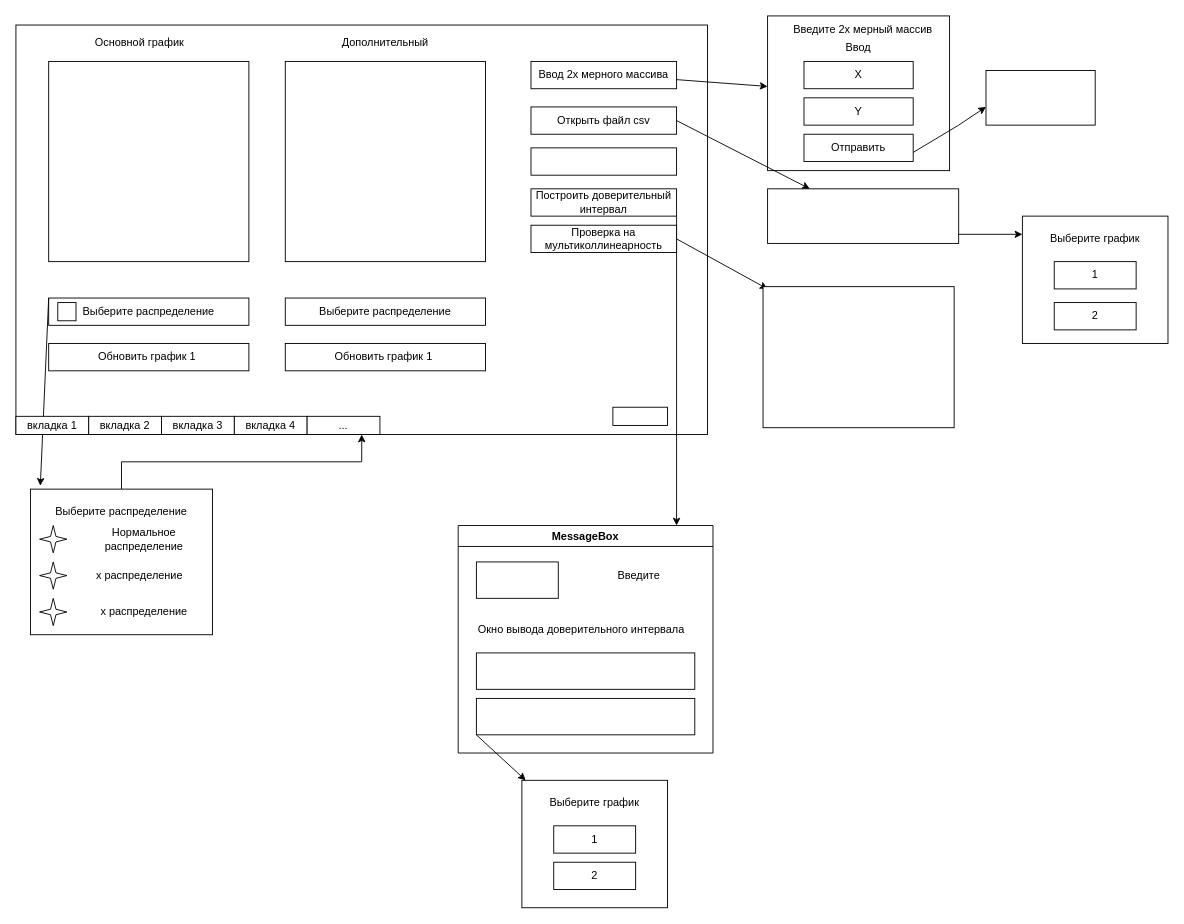
Image size: 1184x924. Some labels were removed from this diagram. The centre of each missing label's shape, as x and y in pixels:
Выход: the point at 639,415
Обновить график с учетом довер интервала: the point at 585,716
Обозначает сохраниение данных в файл csv: the point at 1040,97
Открывается файловый менеджер и выбираем файл: the point at 863,215
Построить линейную регрессию: the point at 603,161
